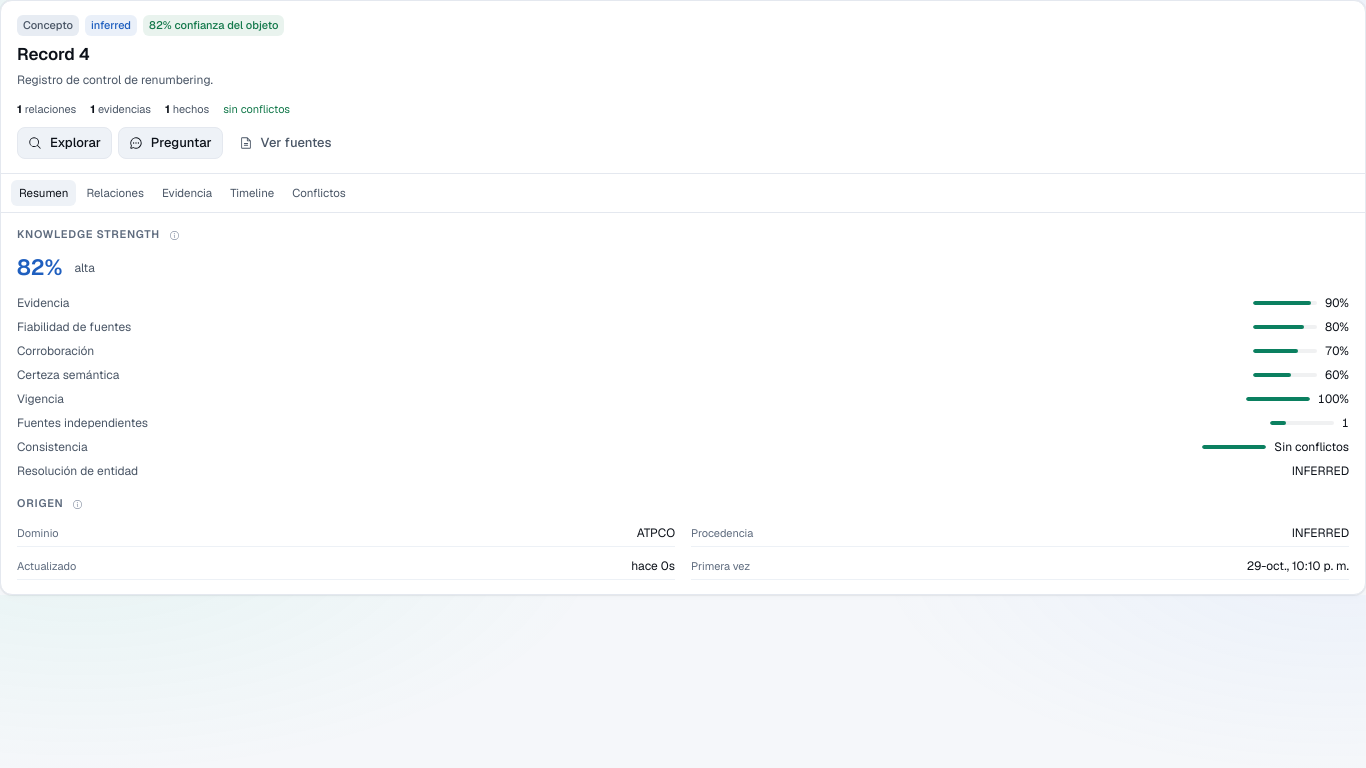
Test case: MapInspector › muestra la ficha, strength explicable y relaciones
This screenshot has width=1366, height=768.
Expected: the heading "Record 4" is shown, [17, 42, 90, 64]
Expected: the text "82%" is shown, [17, 251, 62, 284]
Click the button "Relaciones": (115, 193) [78, 180, 152, 206]
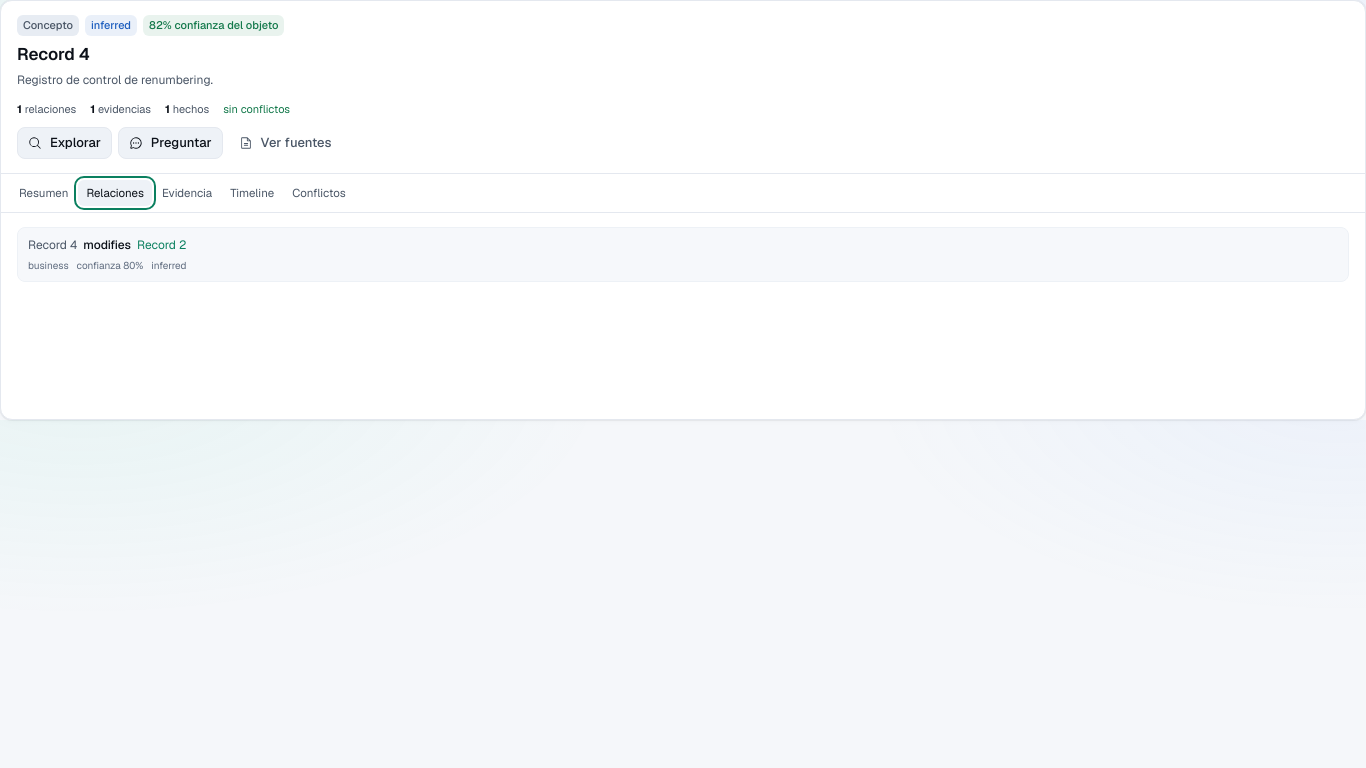
Now the text "modifies" is shown, box [83, 236, 131, 254]
Click the button "Evidencia": (187, 193) [154, 180, 220, 206]
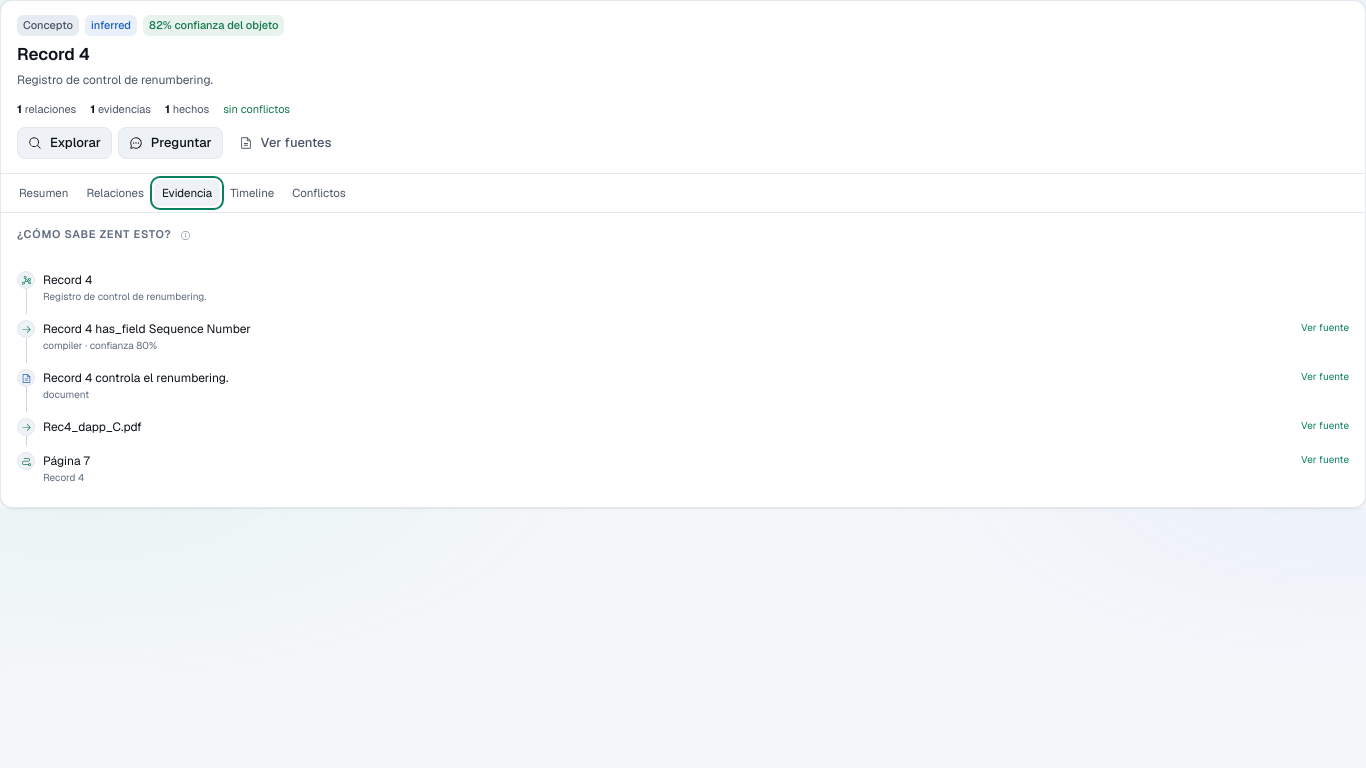
Now the list with test id "evidence-path" shows "Rec4_dapp_C.pdf", box [43, 419, 142, 435]
Now the list with test id "evidence-path" shows "Página 7", box [43, 453, 90, 469]
Click the button "Timeline": (252, 193) [222, 180, 282, 206]
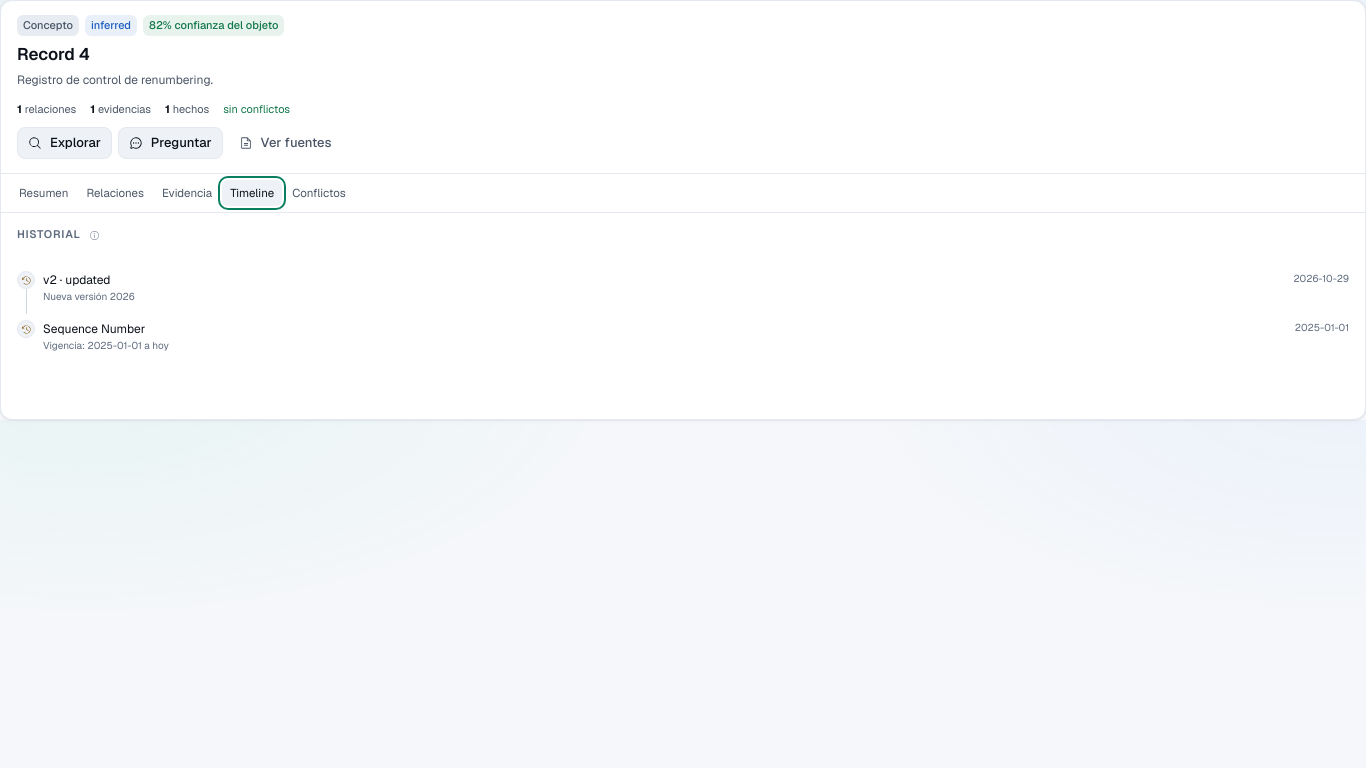
Now the list with test id "knowledge-timeline" shows "Nueva versión 2026", box [43, 290, 135, 303]
